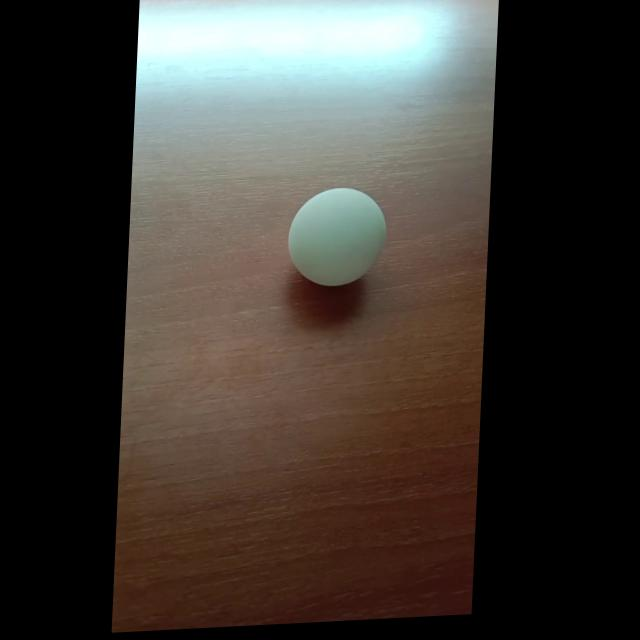white ball: (285, 184, 388, 290)
